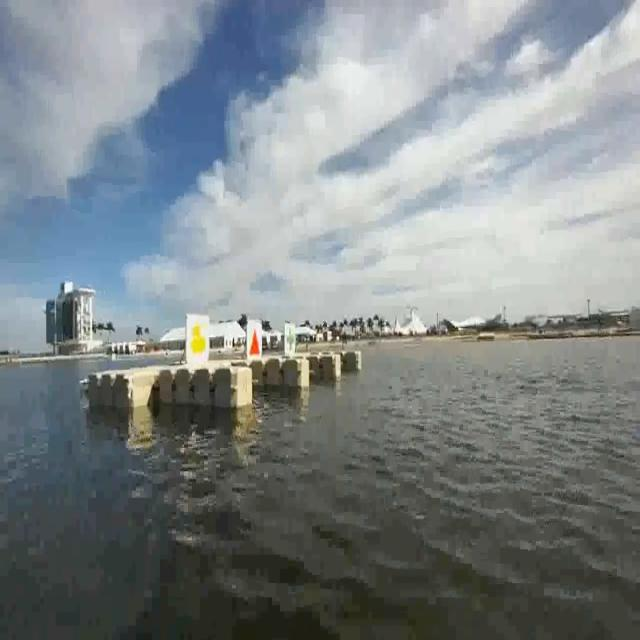blue-cross: (286, 322, 299, 356)
yellow-duck: (187, 310, 213, 370)
